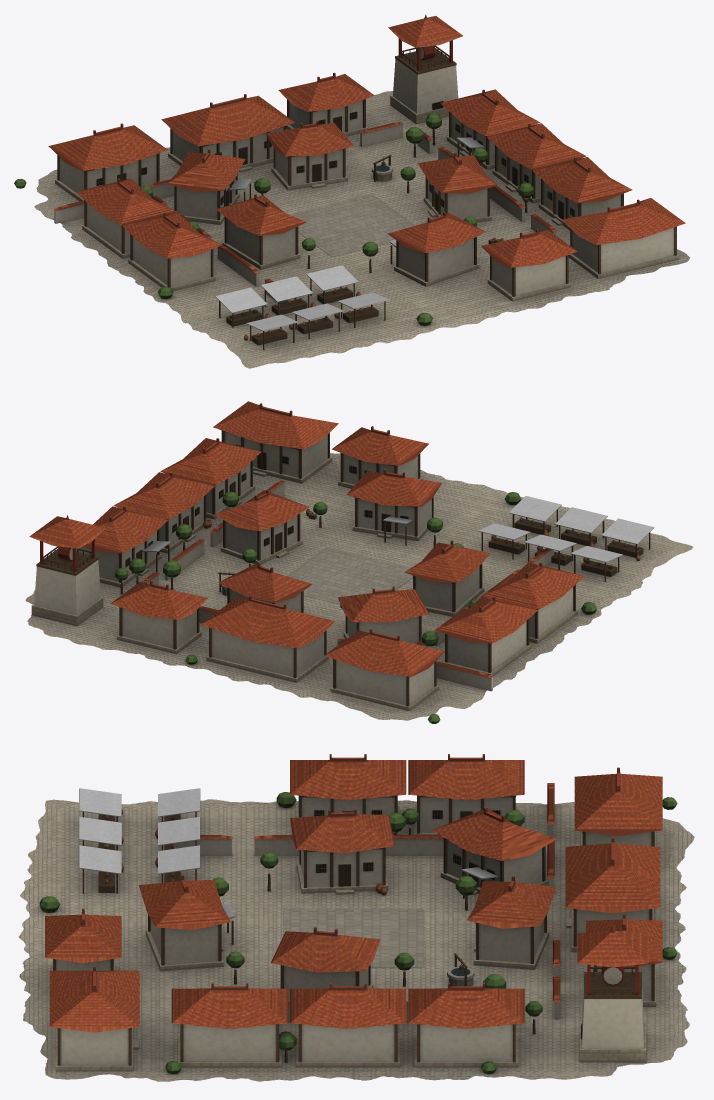
Rendered from classical-town-medium-b.glb.
3 renders of one model, top to bottom at view 1: azimuth 30°, elevation 25°; view 2: azimuth 150°, elevation 25°; view 3: azimuth 270°, elevation 25°, orthographic. The views are drawn at different scales.
Parts seen in each view (by area): view 1: LOD0; view 2: LOD0; view 3: LOD0.
Boxes of the visible parts, <box> form: LOD0: <box>14,14,689,368</box>; LOD0: <box>25,401,693,723</box>; LOD0: <box>18,754,694,1081</box>.
Size of what is drawn, in the model's own units: 6.03 by 1.23 by 6.09.
Materials: 3 (3 with a texture image).
